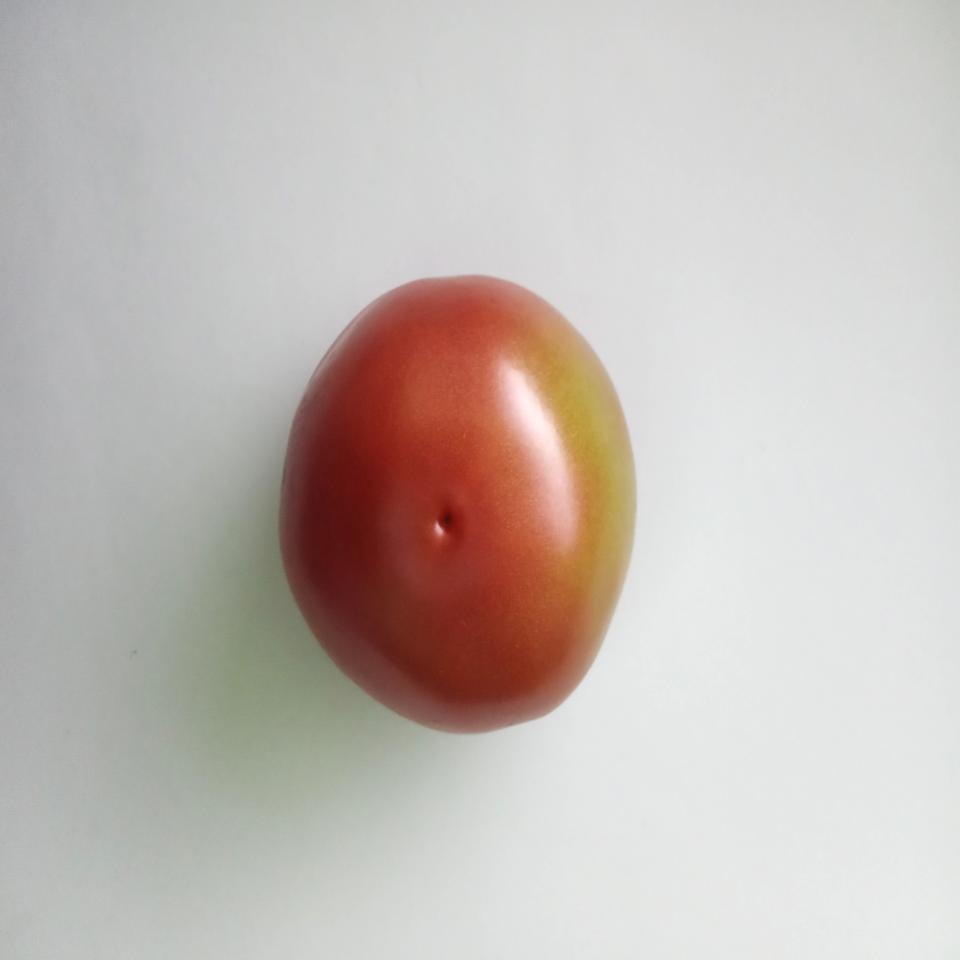Healthy: (275, 265, 643, 742)
